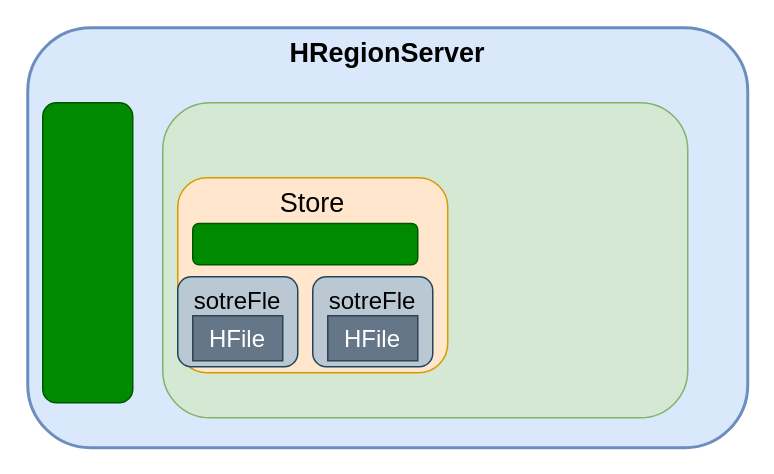
Image size: 774x474. Some labels were removed from this diagram. Each missing label, with the box of its shape:
HLog: (41, 101, 133, 403)
HRegion: (161, 101, 688, 418)
Mem store: (191, 222, 418, 265)
